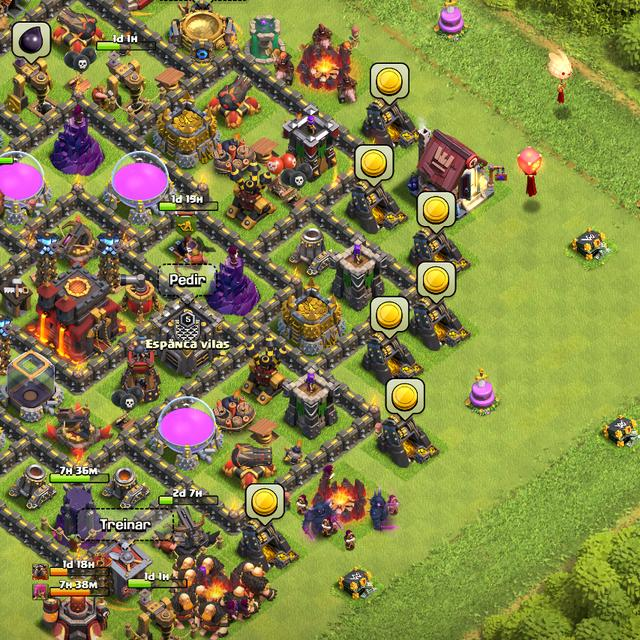ElixirNegro: (12, 22, 52, 63)
coin: (385, 377, 426, 422), (368, 295, 408, 341), (245, 483, 285, 528), (418, 260, 458, 304), (354, 143, 394, 186), (371, 62, 410, 104), (417, 192, 456, 232)
